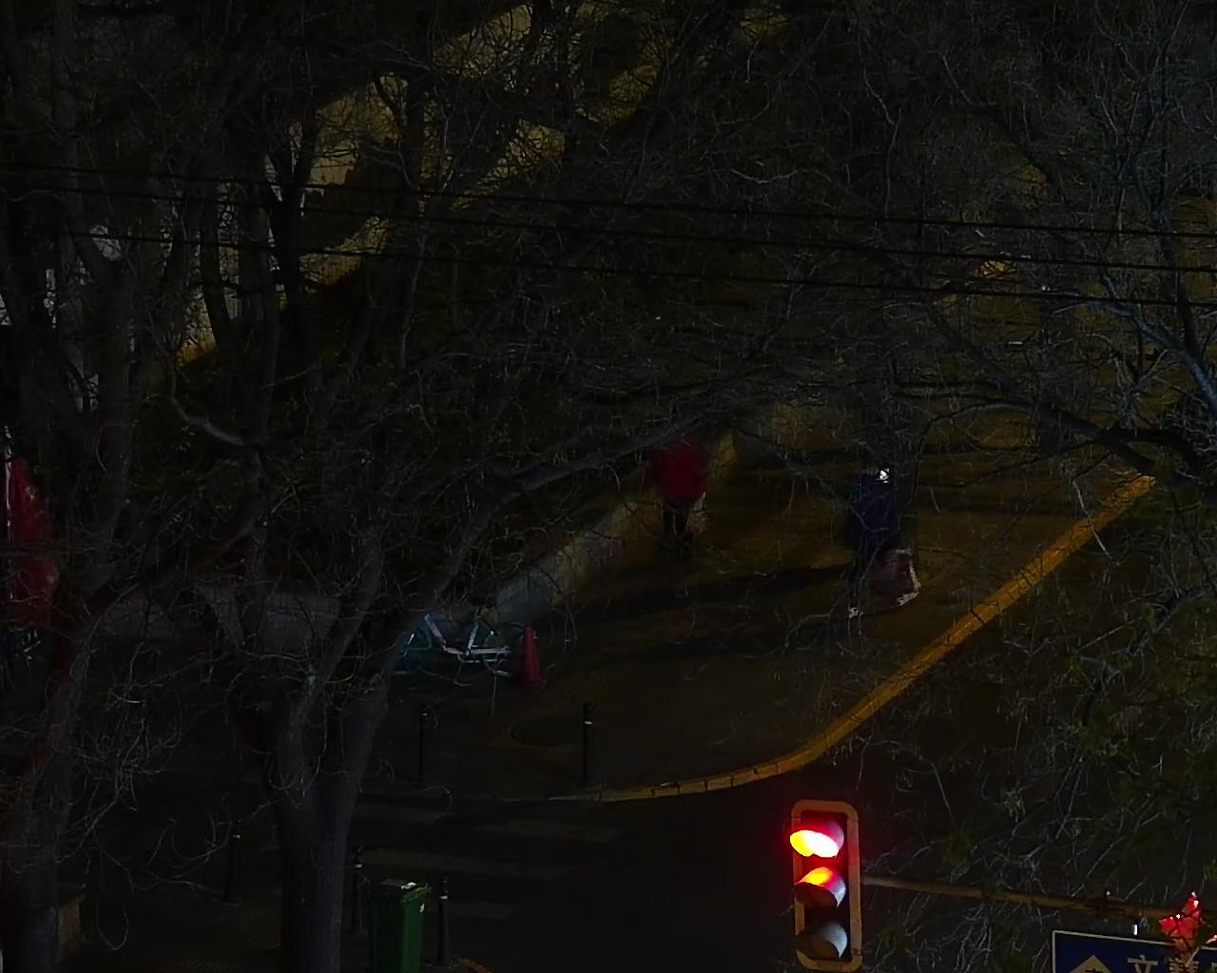person: (843, 443, 922, 620), (649, 394, 712, 567)
